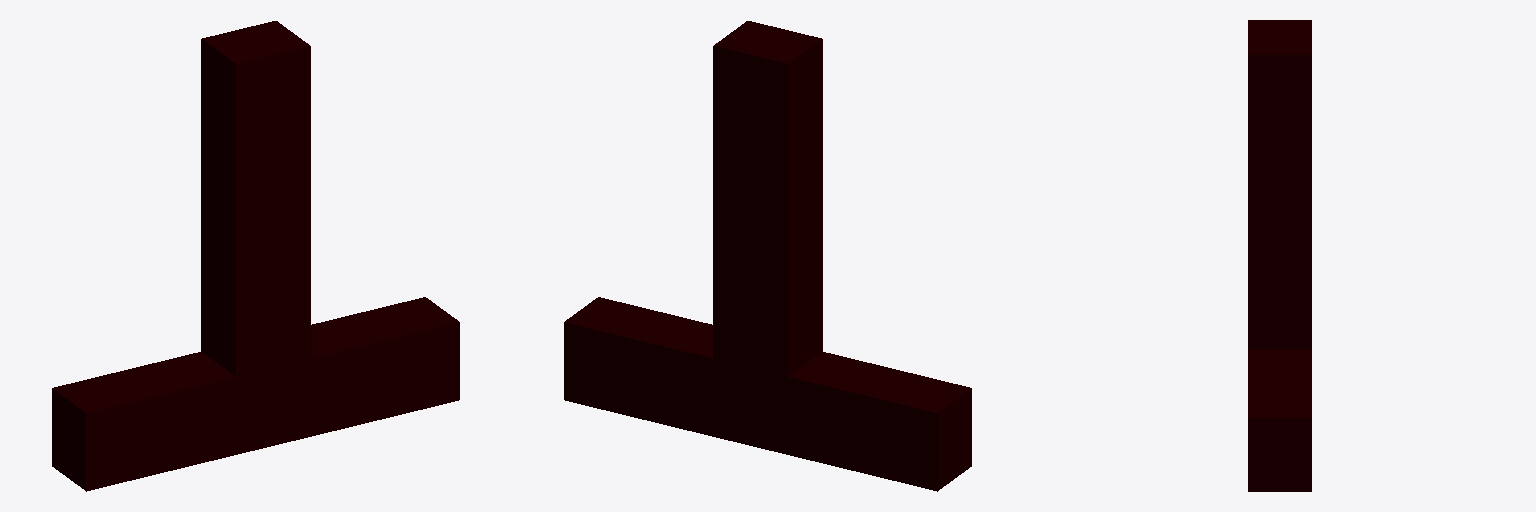
URDF robot description (tbar):
<?xml version="1.0" ?>
<robot name="tbar">
  <link name="tbar">
    <contact>
      <lateral_friction value="1.0"/>
      <rolling_friction value="0.0"/>
      <contact_cfm value="0.0"/>
      <contact_erp value="1.0"/>
    </contact>
    <inertial>
      <origin rpy="0 0 0.0183" xyz="0 0 0"/>
       <mass value="0.194"/>
       <inertia ixx="3.9e-4" ixy="0" ixz="0" iyy="5.908e-4" iyz="0" izz="2.18e-4"/>
    </inertial>
    <visual>
      <geometry>
				<mesh filename="tbar.dae" scale="1 1 1"/>
      </geometry>
    </visual>
    <collision>
      <geometry>
				<mesh filename="tbar.stl" scale="1 1 1"/>
      </geometry>
    </collision>
  </link>
</robot>

--- Facts derived from the render (not from the file) ---
The picture shows the robot from 3 angles, left to right: view 1: azimuth 30°, elevation 25°; view 2: azimuth 150°, elevation 25°; view 3: azimuth 270°, elevation 25°; orthographic projection.
Model tbar with 1 links and 0 joints (none), rooted at tbar, posed every joint at zero.
Visible links, largest first — view 1: tbar; view 2: tbar; view 3: tbar.
Link boxes in pixels (left/top/right/bottom): tbar: left=52, top=21, right=459, bottom=491; tbar: left=564, top=21, right=971, bottom=491; tbar: left=1248, top=20, right=1311, bottom=491.
Bounding box of the posed robot: 0.15 × 0.024 × 0.15 m (x, y, z).
1 mesh visuals loaded from 1 distinct referenced files (1 Collada DAE).